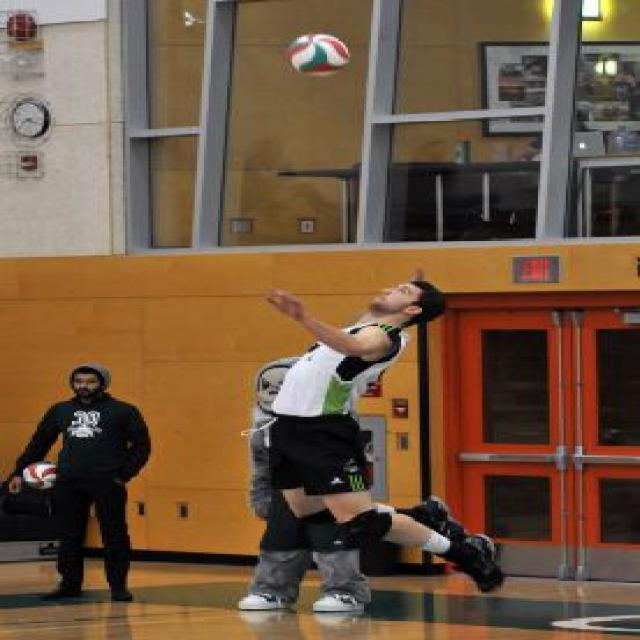volleyball: (287, 33, 350, 78)
